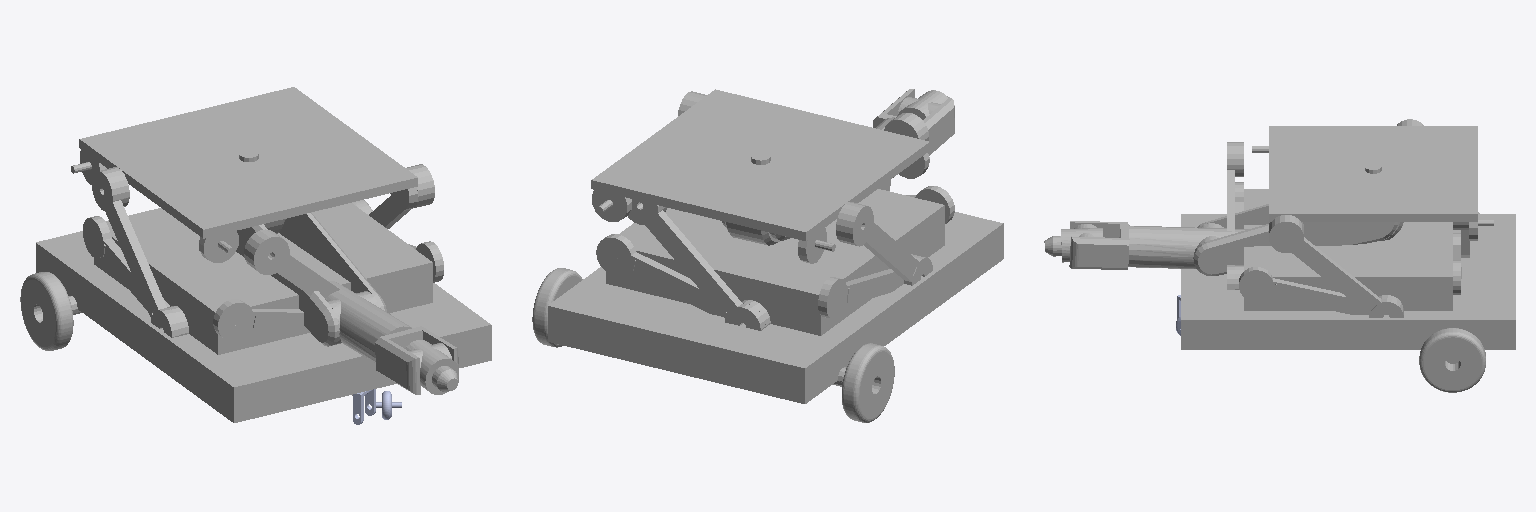
URDF robot description (my_robot):
<?xml version="1.0" encoding="utf-8"?>
<!-- This URDF was automatically created by SolidWorks to URDF Exporter! Originally created by Stephen Brawner ([email redacted]) 
     Commit Version: 1.6.0-4-g7f85cfe  Build Version: 1.6.7995.38578
     For more information, please see http://wiki.ros.org/sw_urdf_exporter -->
<robot
  name="my_robot">
  <link
    name="base_link">
    <inertial>
      <origin
        xyz="-2.51059355460684E-17 0.000917004514666603 -0.0345737215417404"
        rpy="0 0 0" />
      <mass
        value="9.51282461066678" />
      <inertia
        ixx="0.101777369494004"
        ixy="-1.41870436379443E-17"
        ixz="-8.89880693213872E-19"
        iyy="0.066764511471082"
        iyz="0.000283974031449322"
        izz="0.1623129017019" />
    </inertial>
    <visual>
      <origin
        xyz="0 0 0"
        rpy="0 0 0" />
      <geometry>
        <mesh
          filename="package://my_robot/meshes/base_link.STL" />
      </geometry>
      <material
        name="">
        <color
          rgba="0.752941176470588 0.752941176470588 0.752941176470588 1" />
      </material>
    </visual>
    <collision>
      <origin
        xyz="0 0 0"
        rpy="0 0 0" />
      <geometry>
        <mesh
          filename="package://my_robot/meshes/base_link.STL" />
      </geometry>
    </collision>
  </link>
  <link
    name="link_sr_1">
    <inertial>
      <origin
        xyz="0.0628776555368032 0.0493942151111784 3.98640664661665E-06"
        rpy="0 0 0" />
      <mass
        value="0.0643607669234624" />
      <inertia
        ixx="0.000100219372552478"
        ixy="-0.000120600639716103"
        ixz="1.15763498645089E-08"
        iyy="0.000159006979934966"
        iyz="8.93259292239888E-09"
        izz="0.000258151622538778" />
    </inertial>
    <visual>
      <origin
        xyz="0 0 0"
        rpy="0 0 0" />
      <geometry>
        <mesh
          filename="package://my_robot/meshes/link_sr_1.STL" />
      </geometry>
      <material
        name="">
        <color
          rgba="0.752941176470588 0.752941176470588 0.752941176470588 1" />
      </material>
    </visual>
    <collision>
      <origin
        xyz="0 0 0"
        rpy="0 0 0" />
      <geometry>
        <mesh
          filename="package://my_robot/meshes/link_sr_1.STL" />
      </geometry>
    </collision>
  </link>
  <joint
    name="joint_1"
    type="revolute">
    <origin
      xyz="0.130000000000001 -0.109999999999999 0.0075"
      rpy="1.5707963267949 0 1.5707963267949" />
    <parent
      link="base_link" />
    <child
      link="link_sr_1" />
    <axis
      xyz="0 0 -1" />
    <limit
      lower="0.3"
      upper="1.5"
      effort="0"
      velocity="0" />
  </joint>
  <link
    name="link_sr_2">
    <inertial>
      <origin
        xyz="0.0636783953826778 0.071958664256431 0.00299012819222474"
        rpy="0 0 0" />
      <mass
        value="0.0824501328250599" />
      <inertia
        ixx="0.000196620892250655"
        ixy="-0.000166003278907984"
        ixz="7.00470879783159E-06"
        iyy="0.00015593244290702"
        iyz="7.91558168732911E-06"
        izz="0.000348534868286062" />
    </inertial>
    <visual>
      <origin
        xyz="0 0 0"
        rpy="0 0 0" />
      <geometry>
        <mesh
          filename="package://my_robot/meshes/link_sr_2.STL" />
      </geometry>
      <material
        name="">
        <color
          rgba="0.752941176470588 0.752941176470588 0.752941176470588 1" />
      </material>
    </visual>
    <collision>
      <origin
        xyz="0 0 0"
        rpy="0 0 0" />
      <geometry>
        <mesh
          filename="package://my_robot/meshes/link_sr_2.STL" />
      </geometry>
    </collision>
  </link>
  <joint
    name="joint_sr_2"
    type="revolute">
    <origin
      xyz="0.125820764536835 0.0988389357054 0.00499999999999887"
      rpy="0 0 1.5707963267949" />
    <parent
      link="link_sr_1" />
    <child
      link="link_sr_2" />
    <axis
      xyz="0 0 1" />
    <limit
      lower="0.3"
      upper="1.5"
      effort="0"
      velocity="0" />
  </joint>
  <link
    name="top-Link">
    <inertial>
      <origin
        xyz="0.0146239201277833 -0.104 -0.145"
        rpy="0 0 0" />
      <mass
        value="0.838112370202977" />
      <inertia
        ixx="0.00964178140261255"
        ixy="7.02061973530307E-18"
        ixz="-3.47133748155534E-18"
        iyy="0.00485224285006628"
        iyz="-2.02412419380707E-17"
        izz="0.00485224285006628" />
    </inertial>
    <visual>
      <origin
        xyz="0 0 0"
        rpy="0 0 0" />
      <geometry>
        <mesh
          filename="package://my_robot/meshes/top-Link.STL" />
      </geometry>
      <material
        name="">
        <color
          rgba="0.752941176470588 0.752941176470588 0.752941176470588 1" />
      </material>
    </visual>
    <collision>
      <origin
        xyz="0 0 0"
        rpy="0 0 0" />
      <geometry>
        <mesh
          filename="package://my_robot/meshes/top-Link.STL" />
      </geometry>
    </collision>
  </link>
  <joint
    name="joint_top_link"
    type="revolute">
    <origin
      xyz="0.10603 0.11982 0.01"
      rpy="0 0 0" />
    <parent
      link="link_sr_2" />
    <child
      link="top-Link" />
    <axis
      xyz="1 0 0" />
    <limit
      lower="0"
      upper="0.3"
      effort="0"
      velocity="0" />
  </joint>
  <link
    name="link_2">
    <inertial>
      <origin
        xyz="2.07935968613546E-19 4.85060384674448E-19 0.0301090649005537"
        rpy="0 0 0" />
      <mass
        value="0.28679331350207" />
      <inertia
        ixx="0.000370196025887388"
        ixy="-1.93865174656436E-06"
        ixz="2.14563174760741E-20"
        iyy="0.000298086610732488"
        iyz="2.44419036630689E-20"
        izz="0.000270987787715891" />
    </inertial>
    <visual>
      <origin
        xyz="0 0 0"
        rpy="0 0 0" />
      <geometry>
        <mesh
          filename="package://my_robot/meshes/link_2.STL" />
      </geometry>
      <material
        name="">
        <color
          rgba="0.752941176470588 0.752941176470588 0.752941176470588 1" />
      </material>
    </visual>
    <collision>
      <origin
        xyz="0 0 0"
        rpy="0 0 0" />
      <geometry>
        <mesh
          filename="package://my_robot/meshes/link_2.STL" />
      </geometry>
    </collision>
  </link>
  <joint
    name="joint_2"
    type="revolute">
    <origin
      xyz="0.021 -0.104 -0.145"
      rpy="0 -1.5708 0" />
    <parent
      link="top-Link" />
    <child
      link="link_2" />
    <axis
      xyz="0 0 1" />
    <limit
      lower="-3.14"
      upper="3.14"
      effort="0"
      velocity="0" />
  </joint>
  <link
    name="link_3">
    <inertial>
      <origin
        xyz="0.082472235392972 0.0218875003545157 9.91760083232281E-18"
        rpy="0 0 0" />
      <mass
        value="0.497898478741614" />
      <inertia
        ixx="0.000613821863916615"
        ixy="-0.000812340329779735"
        ixz="-1.00627514133832E-18"
        iyy="0.00345913629291162"
        iyz="-5.82758667710062E-19"
        izz="0.00345495603922672" />
    </inertial>
    <visual>
      <origin
        xyz="0 0 0"
        rpy="0 0 0" />
      <geometry>
        <mesh
          filename="package://my_robot/meshes/link_3.STL" />
      </geometry>
      <material
        name="">
        <color
          rgba="0.752941176470588 0.752941176470588 0.752941176470588 1" />
      </material>
    </visual>
    <collision>
      <origin
        xyz="0 0 0"
        rpy="0 0 0" />
      <geometry>
        <mesh
          filename="package://my_robot/meshes/link_3.STL" />
      </geometry>
    </collision>
  </link>
  <joint
    name="joint_3"
    type="revolute">
    <origin
      xyz="0 0 0.05"
      rpy="1.5708 0 1.5439" />
    <parent
      link="link_2" />
    <child
      link="link_3" />
    <axis
      xyz="0 0 -1" />
    <limit
      lower="-1.57"
      upper="1.57"
      effort="0"
      velocity="0" />
  </joint>
  <link
    name="link_4">
    <inertial>
      <origin
        xyz="0.0630369908353373 -0.00294413536309529 1.33651752685041E-08"
        rpy="0 0 0" />
      <mass
        value="0.427287350838624" />
      <inertia
        ixx="0.000162879793935558"
        ixy="7.41765109472351E-05"
        ixz="7.67272350368258E-10"
        iyy="0.00174763177644088"
        iyz="4.36233019284638E-10"
        izz="0.00172281335678644" />
    </inertial>
    <visual>
      <origin
        xyz="0 0 0"
        rpy="0 0 0" />
      <geometry>
        <mesh
          filename="package://my_robot/meshes/link_4.STL" />
      </geometry>
      <material
        name="">
        <color
          rgba="0.752941176470588 0.752941176470588 0.752941176470588 1" />
      </material>
    </visual>
    <collision>
      <origin
        xyz="0 0 0"
        rpy="0 0 0" />
      <geometry>
        <mesh
          filename="package://my_robot/meshes/link_4.STL" />
      </geometry>
    </collision>
  </link>
  <joint
    name="joint_4"
    type="revolute">
    <origin
      xyz="0.19337 0.05132 0"
      rpy="0 0 0" />
    <parent
      link="link_3" />
    <child
      link="link_4" />
    <axis
      xyz="0 0 -1" />
    <limit
      lower="-1.57"
      upper="1.57"
      effort="0"
      velocity="0" />
  </joint>
  <link
    name="link_5">
    <inertial>
      <origin
        xyz="0.0161460677140806 0.000406791855931121 -1.15503163023539E-07"
        rpy="0 0 0" />
      <mass
        value="0.0474207074268081" />
      <inertia
        ixx="9.86709038280111E-06"
        ixy="-2.87407302737932E-07"
        ixz="-1.17766643201789E-10"
        iyy="2.12743749122461E-05"
        iyz="-2.15803007583117E-10"
        izz="2.31862223022262E-05" />
    </inertial>
    <visual>
      <origin
        xyz="0 0 0"
        rpy="0 0 0" />
      <geometry>
        <mesh
          filename="package://my_robot/meshes/link_5.STL" />
      </geometry>
      <material
        name="">
        <color
          rgba="0.752941176470588 0.752941176470588 0.752941176470588 1" />
      </material>
    </visual>
    <collision>
      <origin
        xyz="0 0 0"
        rpy="0 0 0" />
      <geometry>
        <mesh
          filename="package://my_robot/meshes/link_5.STL" />
      </geometry>
    </collision>
  </link>
  <joint
    name="joint_5"
    type="revolute">
    <origin
      xyz="0.14984 -0.0069981 0"
      rpy="0 0 0" />
    <parent
      link="link_4" />
    <child
      link="link_5" />
    <axis
      xyz="0 0 -1" />
    <limit
      lower="-1.57"
      upper="1.57"
      effort="0"
      velocity="0" />
  </joint>
  <link
    name="link_sr_12">
    <inertial>
      <origin
        xyz="0.0628776555368256 0.0493942151111945 3.98640664658889E-06"
        rpy="0 0 0" />
      <mass
        value="0.0643607669234623" />
      <inertia
        ixx="0.000100219372552382"
        ixy="-0.00012060063971608"
        ixz="1.15763498639632E-08"
        iyy="0.000159006979935062"
        iyz="8.93259292197373E-09"
        izz="0.000258151622538778" />
    </inertial>
    <visual>
      <origin
        xyz="0 0 0"
        rpy="0 0 0" />
      <geometry>
        <mesh
          filename="package://my_robot/meshes/link_sr_12.STL" />
      </geometry>
      <material
        name="">
        <color
          rgba="0.752941176470588 0.752941176470588 0.752941176470588 1" />
      </material>
    </visual>
    <collision>
      <origin
        xyz="0 0 0"
        rpy="0 0 0" />
      <geometry>
        <mesh
          filename="package://my_robot/meshes/link_sr_12.STL" />
      </geometry>
    </collision>
  </link>
  <joint
    name="joint_sr_2"
    type="revolute">
    <origin
      xyz="0.109999999999999 0.130000000000001 0.0075"
      rpy="1.5707963267949 0 -3.14159265358979" />
    <parent
      link="base_link" />
    <child
      link="link_sr_12" />
    <axis
      xyz="0 0 -1" />
    <limit
      lower="0.3"
      upper="1.5"
      effort="0"
      velocity="0" />
  </joint>
  <link
    name="link_sr_22">
    <inertial>
      <origin
        xyz="-0.0719586642564664 0.0636783953826871 0.00299012819222416"
        rpy="0 0 0" />
      <mass
        value="0.0824501328250598" />
      <inertia
        ixx="0.000155932442907029"
        ixy="0.000166003278907985"
        ixz="-7.91558168732893E-06"
        iyy="0.000196620892250646"
        iyz="7.00470879783181E-06"
        izz="0.000348534868286062" />
    </inertial>
    <visual>
      <origin
        xyz="0 0 0"
        rpy="0 0 0" />
      <geometry>
        <mesh
          filename="package://my_robot/meshes/link_sr_22.STL" />
      </geometry>
      <material
        name="">
        <color
          rgba="0.752941176470588 0.752941176470588 0.752941176470588 1" />
      </material>
    </visual>
    <collision>
      <origin
        xyz="0 0 0"
        rpy="0 0 0" />
      <geometry>
        <mesh
          filename="package://my_robot/meshes/link_sr_22.STL" />
      </geometry>
    </collision>
  </link>
  <joint
    name="joint_sr_22"
    type="revolute">
    <origin
      xyz="0.12582 0.098839 0.005"
      rpy="0 0 0" />
    <parent
      link="link_sr_12" />
    <child
      link="link_sr_22" />
    <axis
      xyz="0 0 1" />
    <limit
      lower="0.3"
      upper="1.5"
      effort="0"
      velocity="0" />
  </joint>
  <link
    name="link_sr_13">
    <inertial>
      <origin
        xyz="0.0628776555368233 0.0493942151111904 3.9864066453954E-06"
        rpy="0 0 0" />
      <mass
        value="0.0643607669234624" />
      <inertia
        ixx="0.000100219372552391"
        ixy="-0.000120600639716082"
        ixz="1.15763498656093E-08"
        iyy="0.000159006979935053"
        iyz="8.93259292322979E-09"
        izz="0.000258151622538778" />
    </inertial>
    <visual>
      <origin
        xyz="0 0 0"
        rpy="0 0 0" />
      <geometry>
        <mesh
          filename="package://my_robot/meshes/link_sr_13.STL" />
      </geometry>
      <material
        name="">
        <color
          rgba="0.752941176470588 0.752941176470588 0.752941176470588 1" />
      </material>
    </visual>
    <collision>
      <origin
        xyz="0 0 0"
        rpy="0 0 0" />
      <geometry>
        <mesh
          filename="package://my_robot/meshes/link_sr_13.STL" />
      </geometry>
    </collision>
  </link>
  <joint
    name="joint_sr_13"
    type="revolute">
    <origin
      xyz="-0.130000000000001 0.109999999999998 0.0075"
      rpy="1.5707963267949 0 -1.57079632679489" />
    <parent
      link="base_link" />
    <child
      link="link_sr_13" />
    <axis
      xyz="0 0 -1" />
    <limit
      lower="0.3"
      upper="1.5"
      effort="0"
      velocity="0" />
  </joint>
  <link
    name="link_sr_23">
    <inertial>
      <origin
        xyz="0.0636783953826593 0.0719586642565353 0.00299012819222499"
        rpy="0 0 0" />
      <mass
        value="0.0824501328250598" />
      <inertia
        ixx="0.000196620892250789"
        ixy="-0.000166003278907967"
        ixz="7.00470879782841E-06"
        iyy="0.000155932442906886"
        iyz="7.91558168733195E-06"
        izz="0.000348534868286061" />
    </inertial>
    <visual>
      <origin
        xyz="0 0 0"
        rpy="0 0 0" />
      <geometry>
        <mesh
          filename="package://my_robot/meshes/link_sr_23.STL" />
      </geometry>
      <material
        name="">
        <color
          rgba="0.752941176470588 0.752941176470588 0.752941176470588 1" />
      </material>
    </visual>
    <collision>
      <origin
        xyz="0 0 0"
        rpy="0 0 0" />
      <geometry>
        <mesh
          filename="package://my_robot/meshes/link_sr_23.STL" />
      </geometry>
    </collision>
  </link>
  <joint
    name="joint_sr_23"
    type="revolute">
    <origin
      xyz="0.12582 0.098839 0.005"
      rpy="0 0 1.5708" />
    <parent
      link="link_sr_13" />
    <child
      link="link_sr_23" />
    <axis
      xyz="0 0 1" />
    <limit
      lower="0.3"
      upper="1.5"
      effort="0"
      velocity="0" />
  </joint>
  <link
    name="link_sr_14">
    <inertial>
      <origin
        xyz="0.0628776555367978 0.0493942151111707 3.98640664597827E-06"
        rpy="0 0 0" />
      <mass
        value="0.0643607669234623" />
      <inertia
        ixx="0.000100219372552506"
        ixy="-0.00012060063971611"
        ixz="1.15763498650512E-08"
        iyy="0.000159006979934938"
        iyz="8.93259292281465E-09"
        izz="0.000258151622538778" />
    </inertial>
    <visual>
      <origin
        xyz="0 0 0"
        rpy="0 0 0" />
      <geometry>
        <mesh
          filename="package://my_robot/meshes/link_sr_14.STL" />
      </geometry>
      <material
        name="">
        <color
          rgba="0.752941176470588 0.752941176470588 0.752941176470588 1" />
      </material>
    </visual>
    <collision>
      <origin
        xyz="0 0 0"
        rpy="0 0 0" />
      <geometry>
        <mesh
          filename="package://my_robot/meshes/link_sr_14.STL" />
      </geometry>
    </collision>
  </link>
  <joint
    name="joint_sr_14"
    type="revolute">
    <origin
      xyz="-0.109999999999999 -0.130000000000001 0.0075"
      rpy="1.5707963267949 0 0" />
    <parent
      link="base_link" />
    <child
      link="link_sr_14" />
    <axis
      xyz="0 0 -1" />
    <limit
      lower="0.3"
      upper="1.5"
      effort="0"
      velocity="0" />
  </joint>
  <link
    name="link_sr_24">
    <inertial>
      <origin
        xyz="-0.0719586642564014 0.0636783953826781 0.00299012819222522"
        rpy="0 0 0" />
      <mass
        value="0.0824501328250598" />
      <inertia
        ixx="0.000155932442907052"
        ixy="0.000166003278907987"
        ixz="-7.91558168732842E-06"
        iyy="0.000196620892250623"
        iyz="7.00470879783233E-06"
        izz="0.000348534868286061" />
    </inertial>
    <visual>
      <origin
        xyz="0 0 0"
        rpy="0 0 0" />
      <geometry>
        <mesh
          filename="package://my_robot/meshes/link_sr_24.STL" />
      </geometry>
      <material
        name="">
        <color
          rgba="0.752941176470588 0.752941176470588 0.752941176470588 1" />
      </material>
    </visual>
    <collision>
      <origin
        xyz="0 0 0"
        rpy="0 0 0" />
      <geometry>
        <mesh
          filename="package://my_robot/meshes/link_sr_24.STL" />
      </geometry>
    </collision>
  </link>
  <joint
    name="joint_sr_24"
    type="revolute">
    <origin
      xyz="0.12582 0.098839 0.005"
      rpy="0 0 0" />
    <parent
      link="link_sr_14" />
    <child
      link="link_sr_24" />
    <axis
      xyz="0 0 1" />
    <limit
      lower="0.3"
      upper="1.5"
      effort="0"
      velocity="0" />
  </joint>
  <link
    name="wheel_R">
    <inertial>
      <origin
        xyz="-2.04003480774873E-15 1.09634523681734E-15 -0.01"
        rpy="0 0 0" />
      <mass
        value="0.11437626123491" />
      <inertia
        ixx="5.09054247575145E-05"
        ixy="2.42358241348999E-39"
        ixz="7.00213903063554E-22"
        iyy="5.09054247575145E-05"
        iyz="-6.93090973642687E-38"
        izz="9.44863018974849E-05" />
    </inertial>
    <visual>
      <origin
        xyz="0 0 0"
        rpy="0 0 0" />
      <geometry>
        <mesh
          filename="package://my_robot/meshes/wheel_R.STL" />
      </geometry>
      <material
        name="">
        <color
          rgba="0.752941176470588 0.752941176470588 0.752941176470588 1" />
      </material>
    </visual>
    <collision>
      <origin
        xyz="0 0 0"
        rpy="0 0 0" />
      <geometry>
        <mesh
          filename="package://my_robot/meshes/wheel_R.STL" />
      </geometry>
    </collision>
  </link>
  <joint
    name="joint_wheel_R"
    type="continuous">
    <origin
      xyz="0.17 0.125 -0.0695"
      rpy="0 -1.5708 0" />
    <parent
      link="base_link" />
    <child
      link="wheel_R" />
    <axis
      xyz="0 0 -1" />
    <limit
      lower="0"
      upper="0"
      effort="0"
      velocity="0" />
  </joint>
  <link
    name="wheel_L">
    <inertial>
      <origin
        xyz="-2.08166817117217E-15 -1.13797860024079E-15 -0.01"
        rpy="0 0 0" />
      <mass
        value="0.11437626123491" />
      <inertia
        ixx="5.09054247575145E-05"
        ixy="-6.58048288768479E-39"
        ixz="7.00213903063554E-22"
        iyy="5.09054247575145E-05"
        iyz="3.6844012870038E-22"
        izz="9.44863018974849E-05" />
    </inertial>
    <visual>
      <origin
        xyz="0 0 0"
        rpy="0 0 0" />
      <geometry>
        <mesh
          filename="package://my_robot/meshes/wheel_L.STL" />
      </geometry>
      <material
        name="">
        <color
          rgba="0.752941176470588 0.752941176470588 0.752941176470588 1" />
      </material>
    </visual>
    <collision>
      <origin
        xyz="0 0 0"
        rpy="0 0 0" />
      <geometry>
        <mesh
          filename="package://my_robot/meshes/wheel_L.STL" />
      </geometry>
    </collision>
  </link>
  <joint
    name="joint_wheel_L"
    type="continuous">
    <origin
      xyz="-0.17 0.125 -0.0695"
      rpy="3.1416 -1.5708 0" />
    <parent
      link="base_link" />
    <child
      link="wheel_L" />
    <axis
      xyz="0 0 -1" />
    <limit
      lower="0"
      upper="0"
      effort="0"
      velocity="0" />
  </joint>
  <link
    name="wheel_3">
    <inertial>
      <origin
        xyz="0.00449493162140352 -0.00813027959524876 -0.01038368754171"
        rpy="0 0 0" />
      <mass
        value="0.00541003378791435" />
      <inertia
        ixx="8.68996116255855E-07"
        ixy="-1.55508623504494E-07"
        ixz="6.59217483949364E-08"
        iyy="1.04504759580705E-06"
        iyz="-1.12389344442341E-07"
        izz="7.8672611747261E-07" />
    </inertial>
    <visual>
      <origin
        xyz="0 0 0"
        rpy="0 0 0" />
      <geometry>
        <mesh
          filename="package://my_robot/meshes/wheel_3.STL" />
      </geometry>
      <material
        name="">
        <color
          rgba="0.792156862745098 0.819607843137255 0.933333333333333 1" />
      </material>
    </visual>
    <collision>
      <origin
        xyz="0 0 0"
        rpy="0 0 0" />
      <geometry>
        <mesh
          filename="package://my_robot/meshes/wheel_3.STL" />
      </geometry>
    </collision>
  </link>
  <joint
    name="joint_wheel_3"
    type="continuous">
    <origin
      xyz="0 -0.1822 -0.07"
      rpy="0 0 0" />
    <parent
      link="base_link" />
    <child
      link="wheel_3" />
    <axis
      xyz="0 0 -1" />
    <limit
      lower="0"
      upper="0"
      effort="0"
      velocity="0" />
  </joint>
  <link
    name="banh_phu">
    <inertial>
      <origin
        xyz="1.38777878078145E-17 0 0.015"
        rpy="0 0 0" />
      <mass
        value="0.00669807920710659" />
      <inertia
        ixx="4.12952158190464E-07"
        ixy="3.25707066357271E-23"
        ixz="1.89262030673387E-22"
        iyy="4.12952158190464E-07"
        iyz="-1.32348898008484E-22"
        izz="6.1494382382171E-07" />
    </inertial>
    <visual>
      <origin
        xyz="0 0 0"
        rpy="0 0 0" />
      <geometry>
        <mesh
          filename="package://my_robot/meshes/banh_phu.STL" />
      </geometry>
      <material
        name="">
        <color
          rgba="0.792156862745098 0.819607843137255 0.933333333333333 1" />
      </material>
    </visual>
    <collision>
      <origin
        xyz="0 0 0"
        rpy="0 0 0" />
      <geometry>
        <mesh
          filename="package://my_robot/meshes/banh_phu.STL" />
      </geometry>
    </collision>
  </link>
  <joint
    name="joint_banh_phu"
    type="revolute">
    <origin
      xyz="0.019059 -0.0033127 -0.025"
      rpy="2.613 -1.5708 0" />
    <parent
      link="wheel_3" />
    <child
      link="banh_phu" />
    <axis
      xyz="0 0 1" />
    <limit
      lower="0"
      upper="0"
      effort="0"
      velocity="0" />
  </joint>
</robot>

--- What the picture shows (computed from the rendered views, not written in the file) ---
The picture shows the robot from 3 angles, left to right: view 1: azimuth 30°, elevation 25°; view 2: azimuth 150°, elevation 25°; view 3: azimuth 270°, elevation 25°; orthographic projection.
Model my_robot with 18 links and 17 joints (14 revolute, 3 continuous), rooted at base_link, posed all joints at 0 but 8 set to mid-range because 0 is outside their limits (joint_1 = 0.9, joint_sr_2 = 0.9, joint_sr_2 = 0.9, joint_sr_22 = 0.9, joint_sr_13 = 0.9, joint_sr_23 = 0.9, +2 more).
Links seen in each view (by area): view 1: base_link, top-Link, link_4, link_3, link_sr_23, wheel_L, link_sr_24, link_sr_14, link_sr_13, link_5, link_2, link_sr_2 (+2 smaller); view 2: base_link, top-Link, link_sr_22, link_sr_12, wheel_L, link_sr_23, link_sr_13, link_2, wheel_R, link_4, link_5, link_sr_24 (+1 smaller); view 3: base_link, top-Link, link_4, link_3, link_sr_2, wheel_R, link_sr_1, link_sr_24, link_2, link_5.
Boxes of the visible links, left/top/right/bottom form: base_link: left=36, top=203, right=491, bottom=422; top-Link: left=71, top=87, right=417, bottom=262; link_4: left=325, top=281, right=458, bottom=394; link_3: left=236, top=212, right=386, bottom=346; link_sr_23: left=92, top=167, right=180, bottom=337; wheel_L: left=20, top=272, right=73, bottom=350; link_sr_24: left=244, top=229, right=390, bottom=314; link_sr_14: left=213, top=299, right=309, bottom=340; link_sr_13: left=83, top=216, right=188, bottom=335; link_5: left=405, top=340, right=458, bottom=394; link_2: left=199, top=140, right=285, bottom=233; link_sr_2: left=369, top=164, right=434, bottom=228; base_link: left=548, top=189, right=1003, bottom=403; top-Link: left=591, top=89, right=929, bottom=263; link_sr_22: left=628, top=199, right=765, bottom=330; link_sr_12: left=596, top=234, right=770, bottom=326; wheel_L: left=842, top=343, right=894, bottom=422; link_sr_23: left=836, top=202, right=932, bottom=285; link_sr_13: left=818, top=254, right=916, bottom=318; link_2: left=725, top=143, right=809, bottom=245; wheel_R: left=532, top=268, right=582, bottom=347; link_4: left=873, top=89, right=954, bottom=177; link_5: left=897, top=90, right=948, bottom=119; link_sr_24: left=884, top=113, right=928, bottom=140; base_link: left=1181, top=189, right=1515, bottom=363; top-Link: left=1252, top=126, right=1493, bottom=240; link_4: left=1069, top=221, right=1247, bottom=269; link_3: left=1193, top=204, right=1397, bottom=275; link_sr_2: left=1269, top=215, right=1403, bottom=317; wheel_R: left=1419, top=328, right=1485, bottom=392; link_sr_1: left=1239, top=267, right=1403, bottom=314; link_sr_24: left=1227, top=142, right=1243, bottom=289; link_2: left=1332, top=153, right=1414, bottom=240; link_5: left=1044, top=224, right=1102, bottom=262.
Size in the robot's own frame: 0.38 by 0.5635 by 0.2124 metres.
Meshes: 18 distinct files referenced, 18 mesh visuals loaded (18 binary STL).
